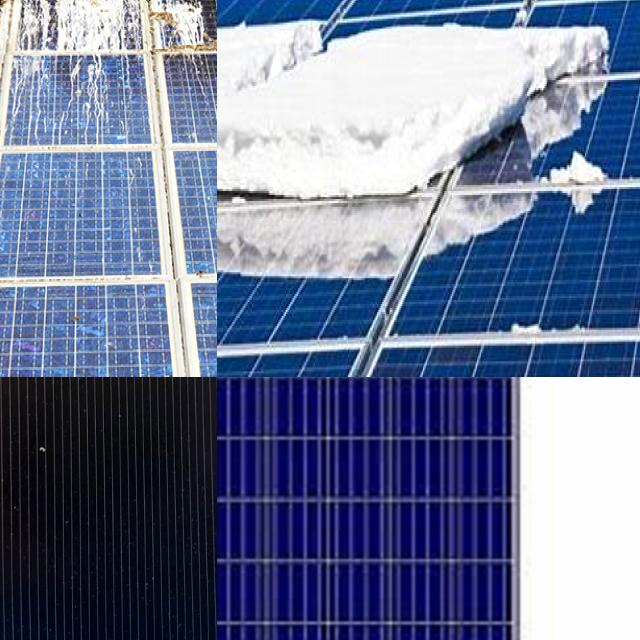bird: (12, 0, 151, 128), (157, 3, 217, 49)
crack: (217, 377, 580, 640)
panel: (452, 114, 584, 218), (502, 15, 625, 100), (254, 150, 346, 244), (395, 1, 503, 74), (298, 12, 412, 68), (355, 158, 432, 240), (554, 144, 624, 220), (396, 164, 460, 228), (217, 0, 293, 47), (313, 172, 373, 230), (234, 166, 292, 225), (497, 306, 562, 354), (217, 166, 254, 233), (217, 163, 255, 227), (217, 0, 260, 47), (217, 14, 247, 54)
shadow: (52, 377, 217, 466)
